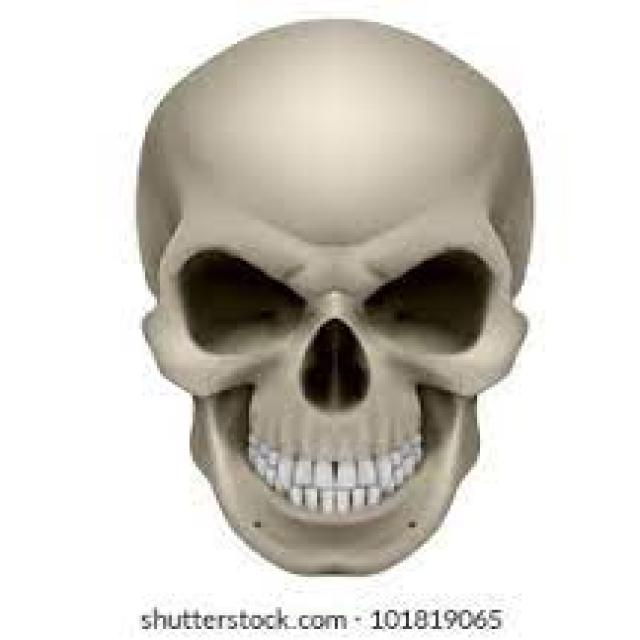skull: (121, 2, 575, 594)
